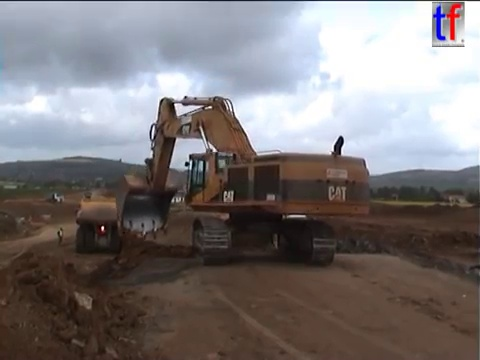excavator: (113, 93, 373, 268)
truck: (73, 194, 130, 255), (182, 190, 203, 210), (44, 192, 66, 205)
worker: (55, 225, 66, 247)
